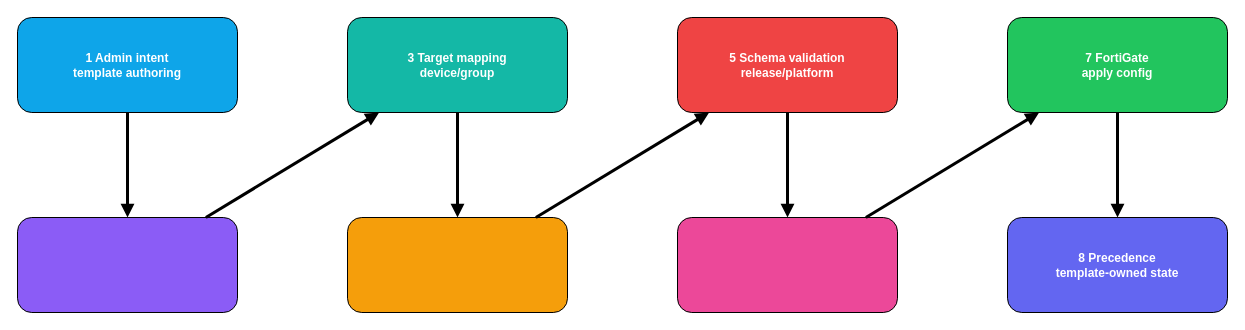
Some shapes in this 1245 by 330 pixel diagram are drawn without their labels. Here are the shapes that lost their labels. From the top down, the centre of each, then its label:
the point at 127,264: 2 Template group system/BGP/CLI
the point at 457,264: 4 Renderer resolve fields
the point at 787,264: 6 Install preview generated CLI
